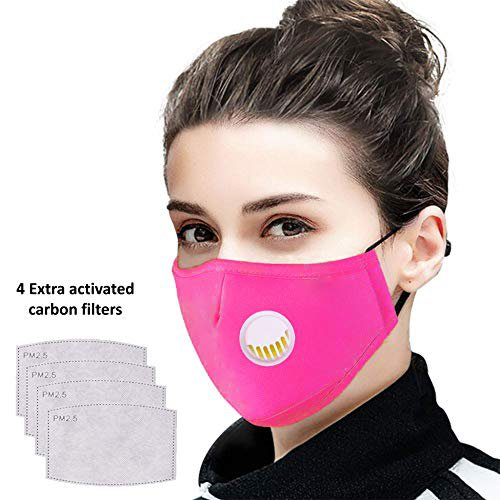mask: (142, 6, 466, 440)
